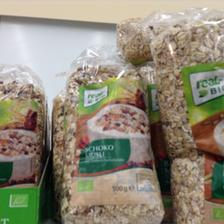Cerealien: (51, 67, 165, 221), (146, 14, 222, 222), (0, 64, 44, 187)
